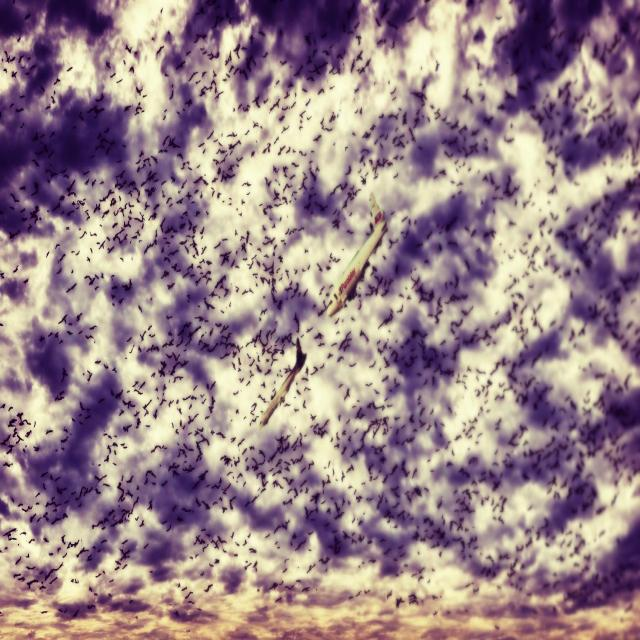airplane: (318, 192, 388, 318), (259, 336, 307, 427)
